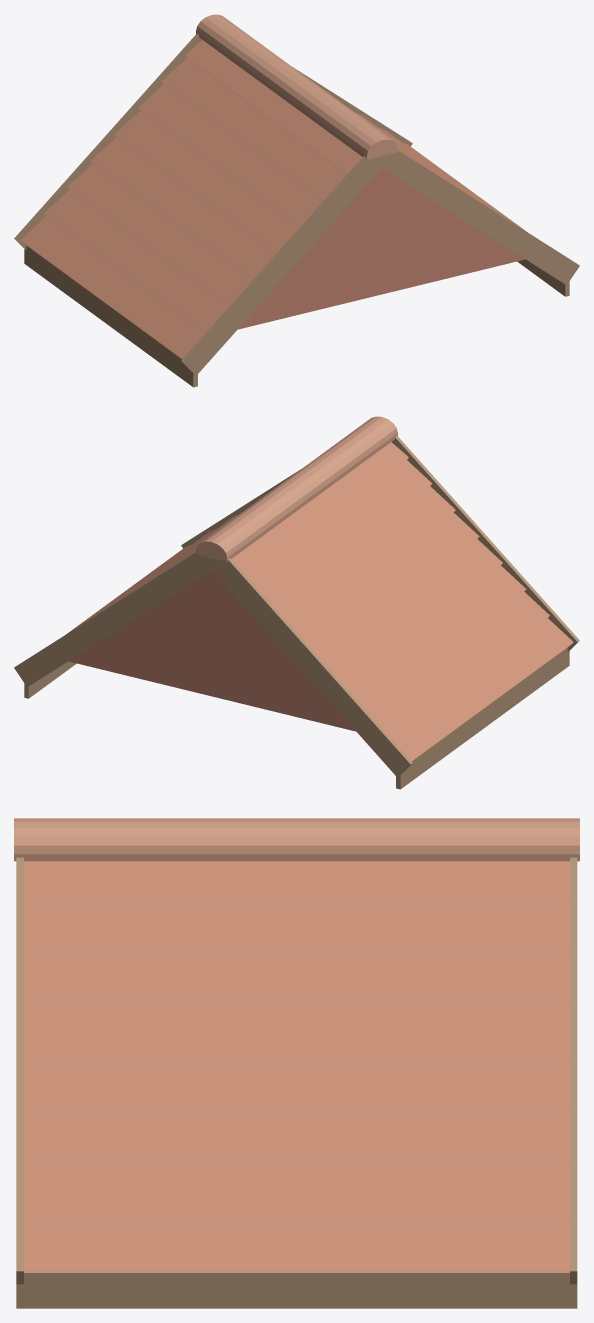
Rendered from gable_roof.low.glb.
3 renders of one model, top to bottom at view 1: azimuth 30°, elevation 25°; view 2: azimuth 150°, elevation 25°; view 3: azimuth 270°, elevation 25°, orthographic. The views are drawn at different scales.
Visible parts, largest first — view 1: building_roof; view 2: building_roof; view 3: building_roof.
Boxes of the visible parts, x1,y1,x2,y2 form: building_roof: (14, 14, 579, 387); building_roof: (14, 416, 579, 789); building_roof: (14, 818, 579, 1308).
Size of the model in its own units: 3.06 by 1.49 by 2.28.
